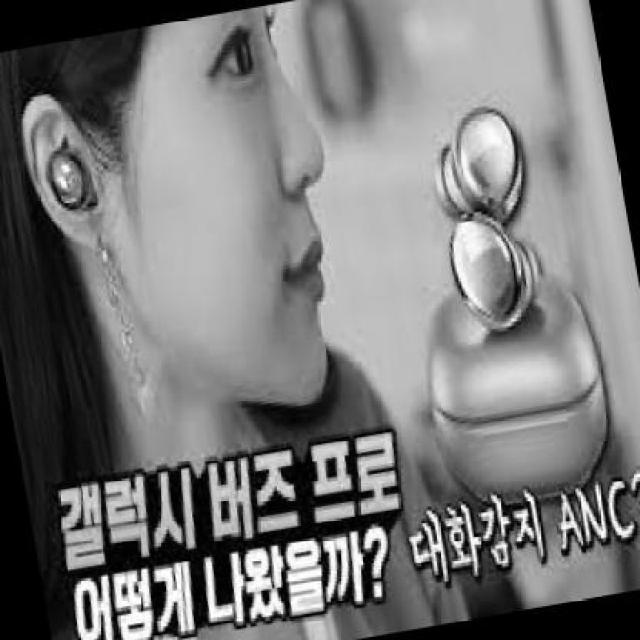earphone: (424, 112, 556, 338), (33, 137, 107, 212)
